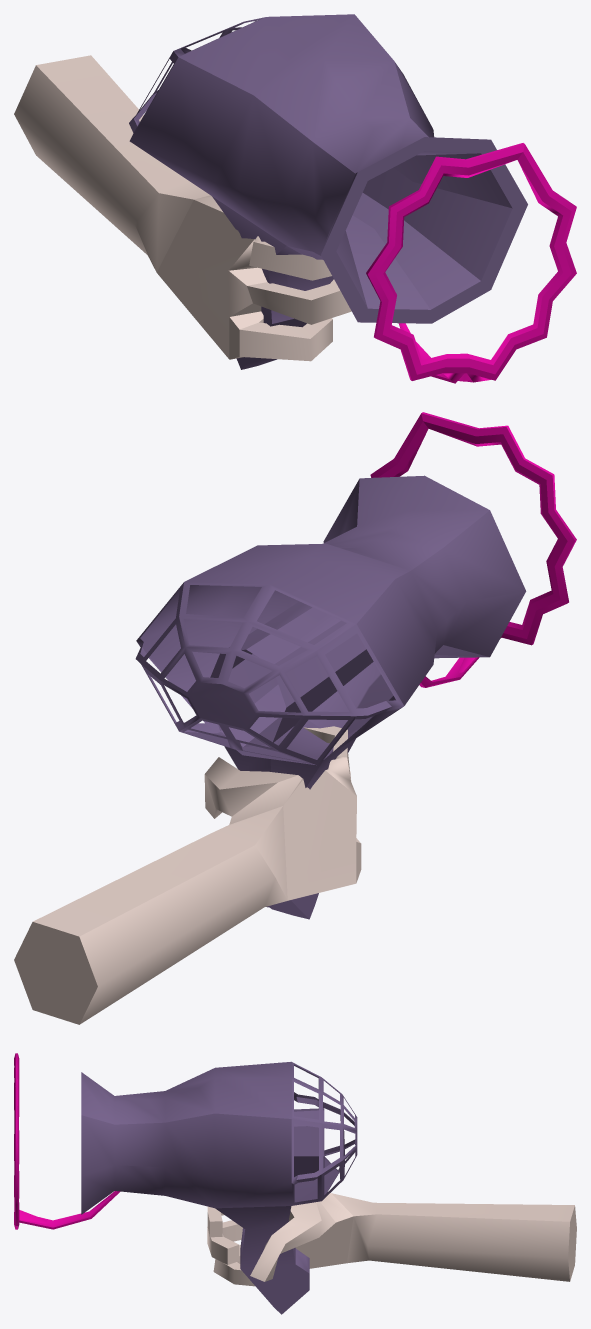
File: Gun_butfbx.fbx
3 renders of one model, top to bottom at view 1: azimuth 30°, elevation 25°; view 2: azimuth 150°, elevation 25°; view 3: azimuth 270°, elevation 25°, orthographic. The views are drawn at different scales.
Parts seen in each view (by area): view 1: Hand_wield_gun; view 2: Hand_wield_gun; view 3: Hand_wield_gun.
Boxes of the visible parts, x1,y1,x2,y2 form: Hand_wield_gun: [14, 14, 576, 383]; Hand_wield_gun: [14, 412, 576, 1024]; Hand_wield_gun: [14, 1053, 576, 1314].
Bounding box in the file's own units: 0.5872 × 0.7354 × 1.57.
